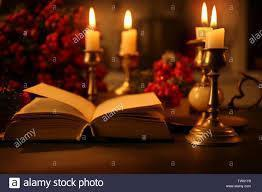fire: (198, 0, 221, 28), (83, 5, 102, 30), (120, 6, 136, 31)
